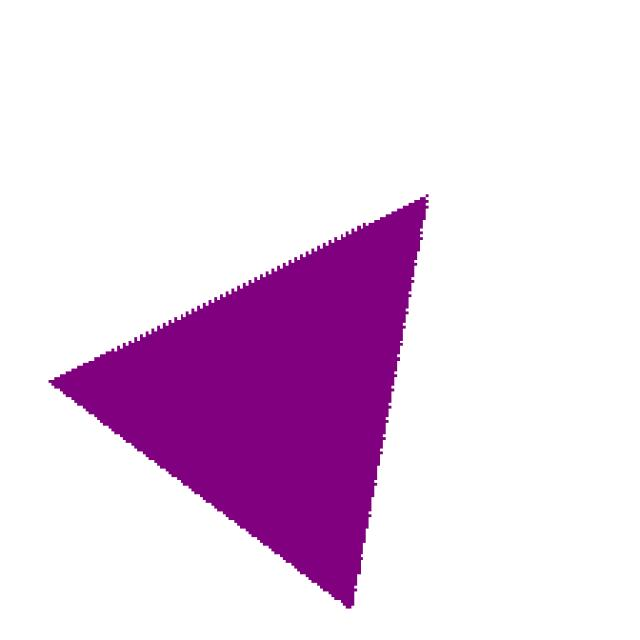Triangle: (21, 160, 492, 640)
